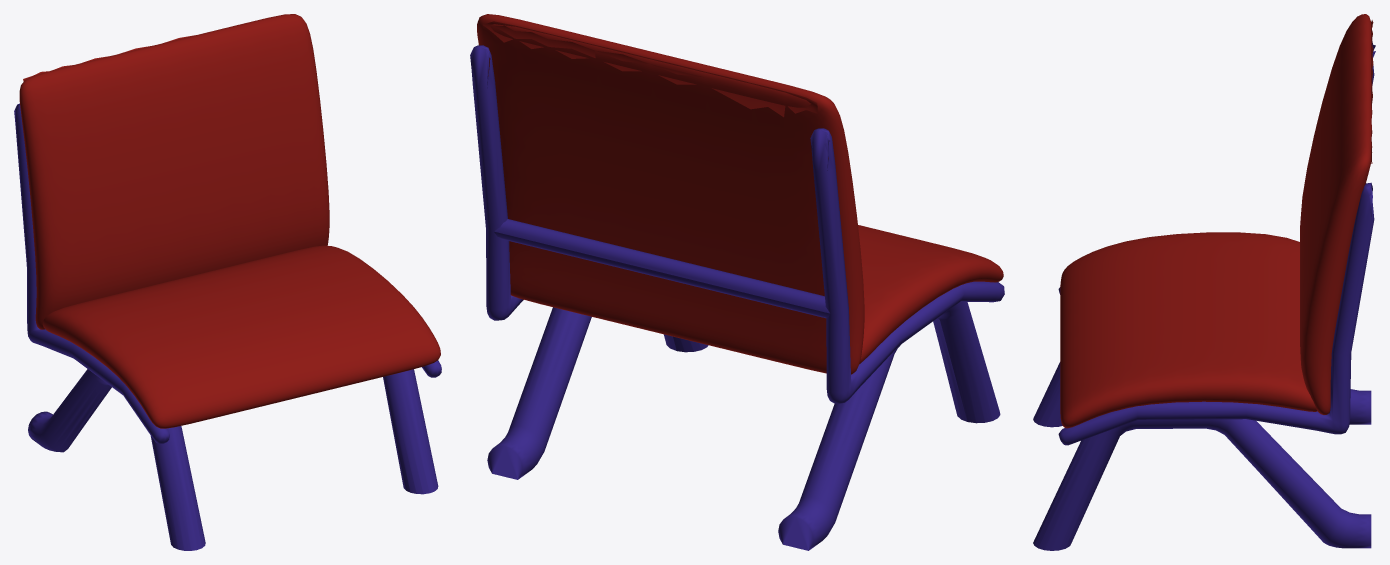
The model's file is IndividualChair.fbx.
The picture shows the model from 3 angles, left to right: view 1: azimuth 30°, elevation 25°; view 2: azimuth 150°, elevation 25°; view 3: azimuth 270°, elevation 25°; orthographic projection. The views are drawn at different scales.
Parts seen in each view (by area): view 1: ChairIndividual02.001; view 2: ChairIndividual02.001; view 3: ChairIndividual02.001.
Boxes of the visible parts, x1,y1,x2,y2 form: ChairIndividual02.001: (14,14,441,550); ChairIndividual02.001: (470,14,1004,550); ChairIndividual02.001: (1033,14,1375,550).
Size of the model in its own units: 2.14 by 2.58 by 2.02.
Materials: 1 (1 with a texture image).
